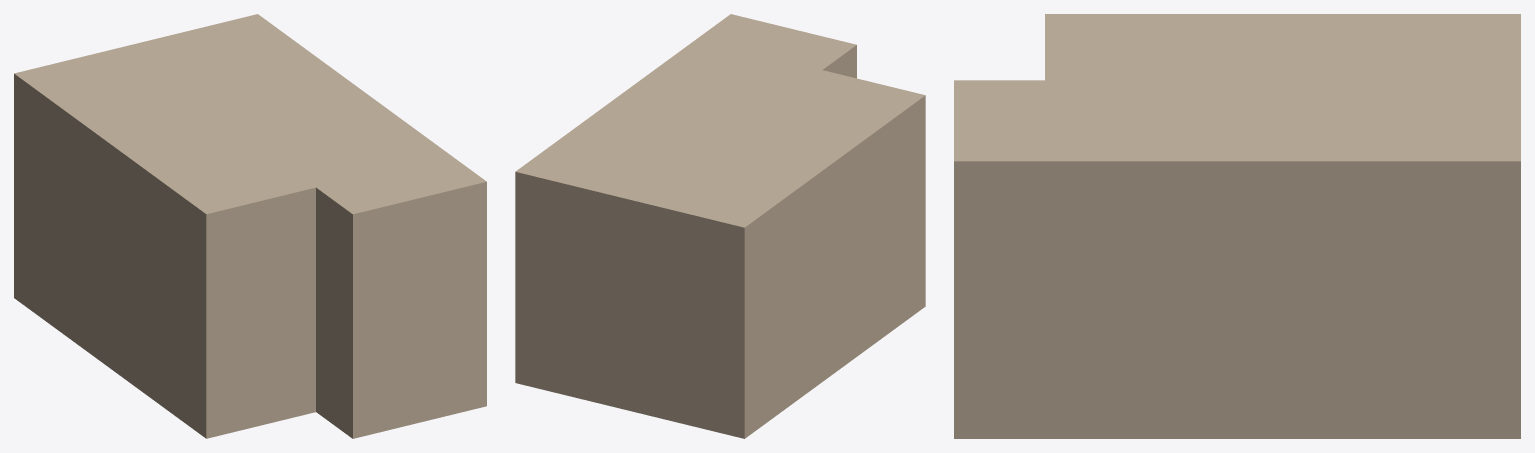
File: massing.glb
The picture shows the model from 3 angles, left to right: view 1: azimuth 30°, elevation 25°; view 2: azimuth 150°, elevation 25°; view 3: azimuth 270°, elevation 25°; orthographic projection. The views are drawn at different scales.
Parts seen in each view (by area): view 1: building/exterior; view 2: building/exterior; view 3: building/exterior.
Part boxes in pixels (<box>): building/exterior: <box>14,14,486,438</box>; building/exterior: <box>515,14,925,438</box>; building/exterior: <box>954,14,1520,438</box>.
Bounding box in the file's own units: 10 × 8.8 × 16.27.
